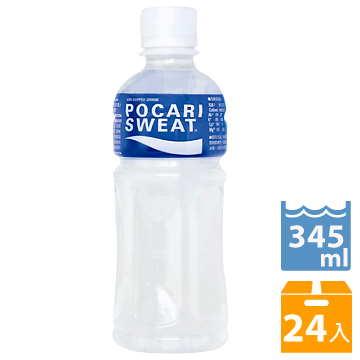POCARI SWEAT: (98, 4, 235, 352)
